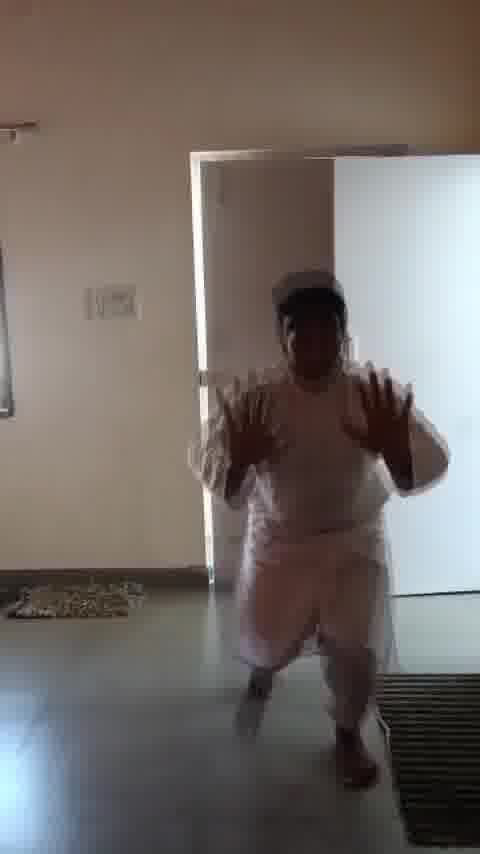duck: (188, 274, 457, 803)
